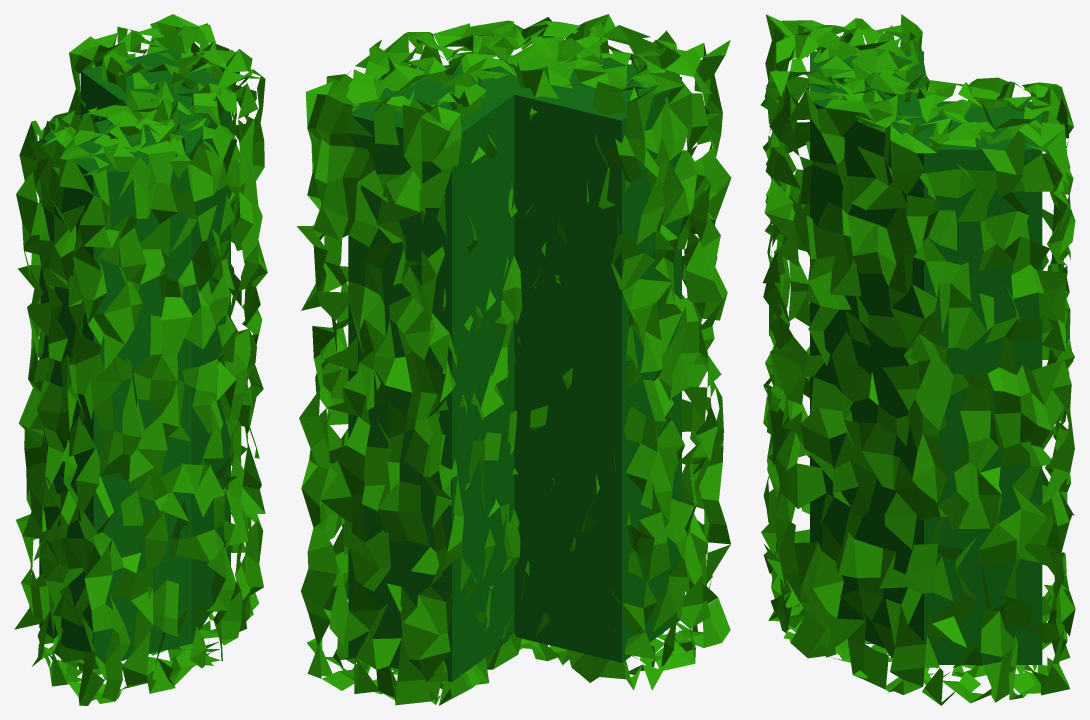
The model's file is kose_lod1.fbx.
The picture shows the model from 3 angles, left to right: view 1: azimuth 30°, elevation 25°; view 2: azimuth 150°, elevation 25°; view 3: azimuth 270°, elevation 25°; orthographic projection. The views are drawn at different scales.
Parts seen in each view (by area): view 1: Cube.039; view 2: Cube.039; view 3: Cube.039.
Boxes of the visible parts, x1,y1,x2,y2 form: Cube.039: (14, 14, 267, 705); Cube.039: (297, 14, 731, 705); Cube.039: (760, 14, 1075, 705).
Bounding box in the file's own units: 5.53 × 11.22 × 5.54.
